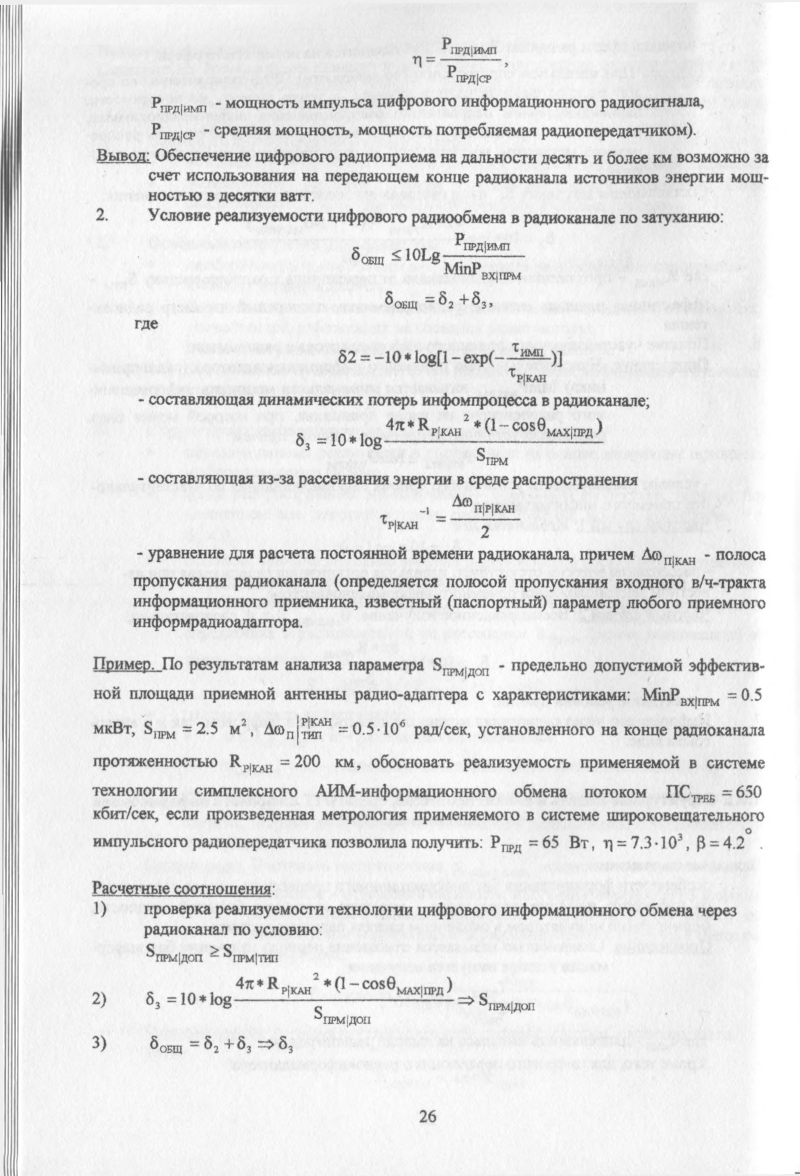P.прд.имп: (445, 39, 500, 54)
P.прд.ср: (449, 66, 495, 85)
R.р.кан: (417, 409, 461, 437), (268, 973, 311, 997)
S.прм: (477, 445, 513, 466)
S.прм.доп: (312, 1005, 374, 1028)
Δω.п.р.кан: (447, 493, 515, 515)
δ.2: (334, 347, 361, 370), (203, 1031, 222, 1056), (437, 289, 456, 310)
δ.3: (291, 429, 315, 453), (144, 989, 163, 1010), (235, 1031, 252, 1054), (470, 287, 485, 310)
δ.общ: (383, 283, 422, 311), (148, 1028, 184, 1058)
θ.max.прд: (387, 974, 443, 996), (536, 419, 593, 440)
τ.имп: (511, 338, 543, 356)
τ.р.кан: (377, 509, 422, 531), (510, 365, 547, 383)
